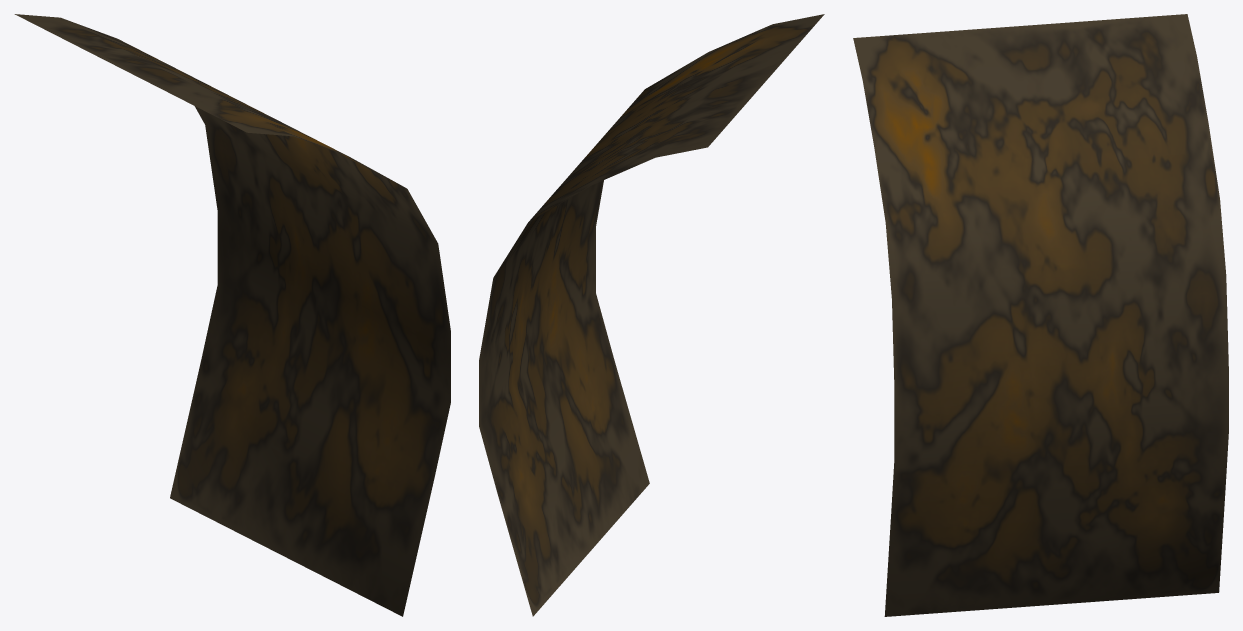
Rendered from Tunnel_2.fbx.
The picture shows the model from 3 angles, left to right: view 1: azimuth 30°, elevation 25°; view 2: azimuth 150°, elevation 25°; view 3: azimuth 270°, elevation 25°; orthographic projection. The views are drawn at different scales.
Parts seen in each view (by area): view 1: CaveTunnel_1__9_.002; view 2: CaveTunnel_1__9_.002; view 3: CaveTunnel_1__9_.002.
Part boxes in pixels (bbox=[...]): CaveTunnel_1__9_.002: bbox=[14, 14, 450, 616]; CaveTunnel_1__9_.002: bbox=[479, 14, 824, 616]; CaveTunnel_1__9_.002: bbox=[853, 14, 1228, 616].
Bounding box in the file's own units: 1211 × 2233 × 1519.
